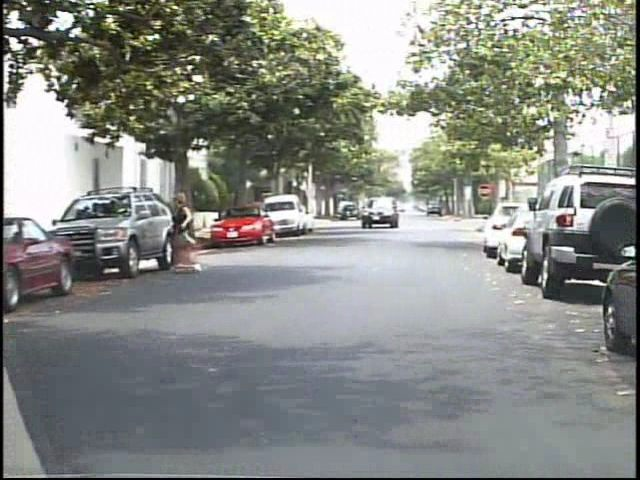person: (175, 188, 210, 278)
